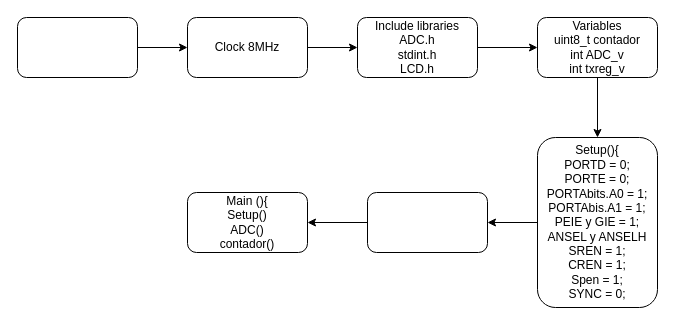
The diagram is 675 pixels wide and 325 high, and some of its shapes have lost their labels. Here are the shapes that lost their labels. From the top down, the box of each, then its label:
(16, 16, 138, 78): Configuration bits
(366, 192, 488, 252): Functions contador();
